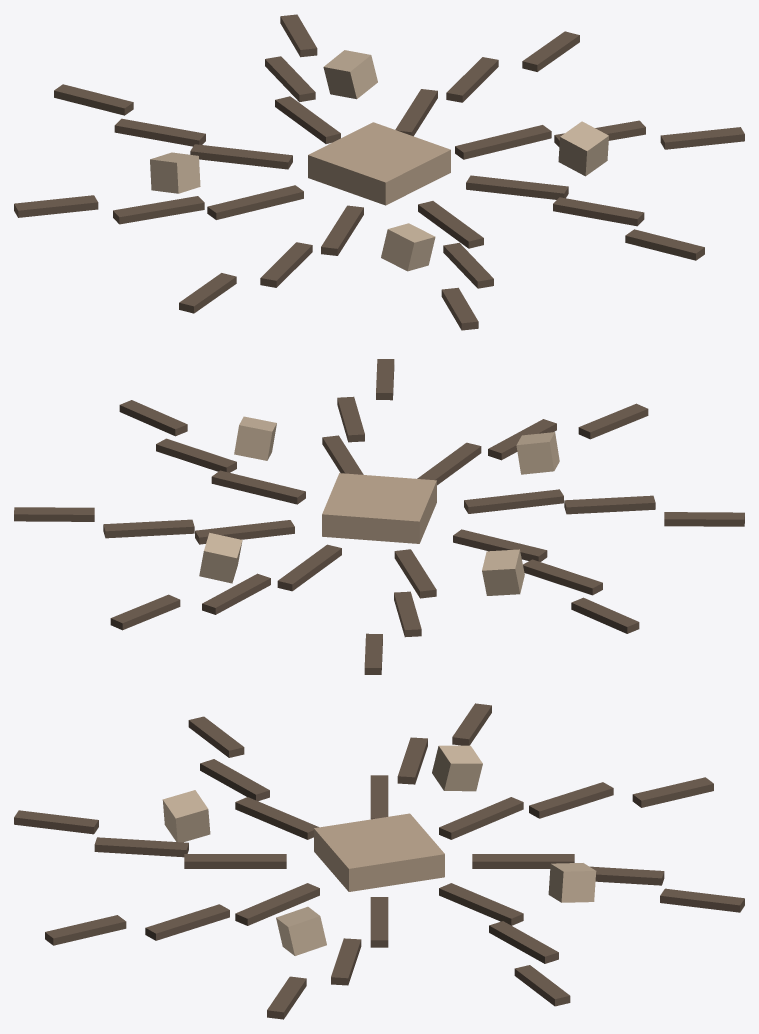
File: Earthquake.fbx
The picture shows the model from 3 angles, top to bottom: view 1: azimuth 30°, elevation 25°; view 2: azimuth 150°, elevation 25°; view 3: azimuth 270°, elevation 25°; orthographic projection. The views are drawn at different scales.
Visible parts, largest first — view 1: Quake_Core, Quake_Rubble, Quake_Rubble.003, Quake_Rubble.001, Quake_Rubble.002, Quake_Crack.003, Quake_Crack.015, Quake_Crack, Quake_Crack.012, Quake_Crack.004, Quake_Crack.013, Quake_Crack.016 (+17 smaller); view 2: Quake_Core, Quake_Rubble.002, Quake_Rubble.003, Quake_Rubble.001, Quake_Crack.009, Quake_Rubble, Quake_Crack, Quake_Crack.010, Quake_Crack.022, Quake_Crack.021, Quake_Crack.012, Quake_Crack.013 (+17 smaller); view 3: Quake_Core, Quake_Rubble.002, Quake_Rubble.001, Quake_Rubble, Quake_Rubble.003, Quake_Crack.006, Quake_Crack.007, Quake_Crack.003, Quake_Crack.015, Quake_Crack.021, Quake_Crack.018, Quake_Crack.009 (+17 smaller).
Boxes of the visible parts, left/top/right/bottom form: Quake_Core: left=308, top=122, right=450, bottom=205; Quake_Rubble: left=558, top=121, right=608, bottom=176; Quake_Rubble.003: left=323, top=50, right=377, bottom=99; Quake_Rubble.001: left=381, top=223, right=435, bottom=271; Quake_Rubble.002: left=150, top=152, right=200, bottom=193; Quake_Crack.003: left=466, top=175, right=568, bottom=199; Quake_Crack.015: left=190, top=144, right=292, bottom=169; Quake_Crack: left=455, top=125, right=551, bottom=159; Quake_Crack.012: left=207, top=185, right=303, bottom=219; Quake_Crack.004: left=553, top=197, right=644, bottom=226; Quake_Crack.013: left=113, top=196, right=204, bottom=224; Quake_Crack.016: left=114, top=118, right=205, bottom=146; Quake_Core: left=322, top=473, right=436, bottom=543; Quake_Rubble.002: left=482, top=549, right=524, bottom=595; Quake_Rubble.003: left=199, top=532, right=242, bottom=583; Quake_Rubble.001: left=516, top=432, right=559, bottom=474; Quake_Crack.009: left=464, top=489, right=563, bottom=513; Quake_Rubble: left=234, top=416, right=276, bottom=460; Quake_Crack: left=211, top=470, right=305, bottom=504; Quake_Crack.010: left=564, top=495, right=655, bottom=514; Quake_Crack.022: left=103, top=519, right=194, bottom=538; Quake_Crack.021: left=195, top=520, right=294, bottom=544; Quake_Crack.012: left=453, top=529, right=547, bottom=561; Quake_Crack.013: left=523, top=559, right=602, bottom=595; Quake_Core: left=314, top=813, right=444, bottom=891; Quake_Rubble.002: left=432, top=745, right=482, bottom=791; Quake_Rubble.001: left=162, top=790, right=210, bottom=842; Quake_Rubble: left=276, top=906, right=326, bottom=955; Quake_Rubble.003: left=548, top=863, right=596, bottom=902; Quake_Crack.006: left=184, top=854, right=286, bottom=868; Quake_Crack.007: left=94, top=837, right=188, bottom=857; Quake_Crack.003: left=235, top=883, right=319, bottom=925; Quake_Crack.015: left=439, top=797, right=523, bottom=839; Quake_Crack.021: left=439, top=883, right=523, bottom=925; Quake_Crack.018: left=472, top=854, right=574, bottom=868; Quake_Crack.009: left=235, top=797, right=318, bottom=839.
Bounding box in the file's own units: 639 × 36.88 × 639.
